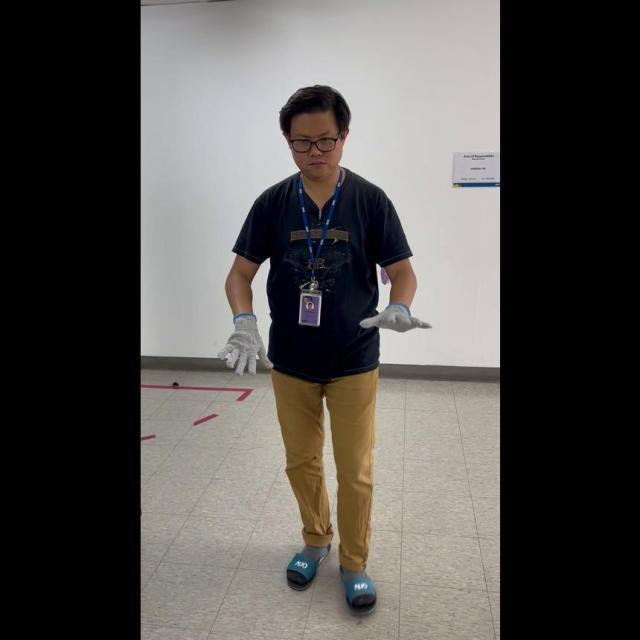gloved_hand: (217, 310, 271, 375), (357, 299, 430, 338)
